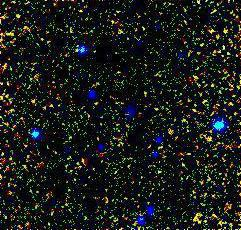star: (193, 125, 223, 155)
